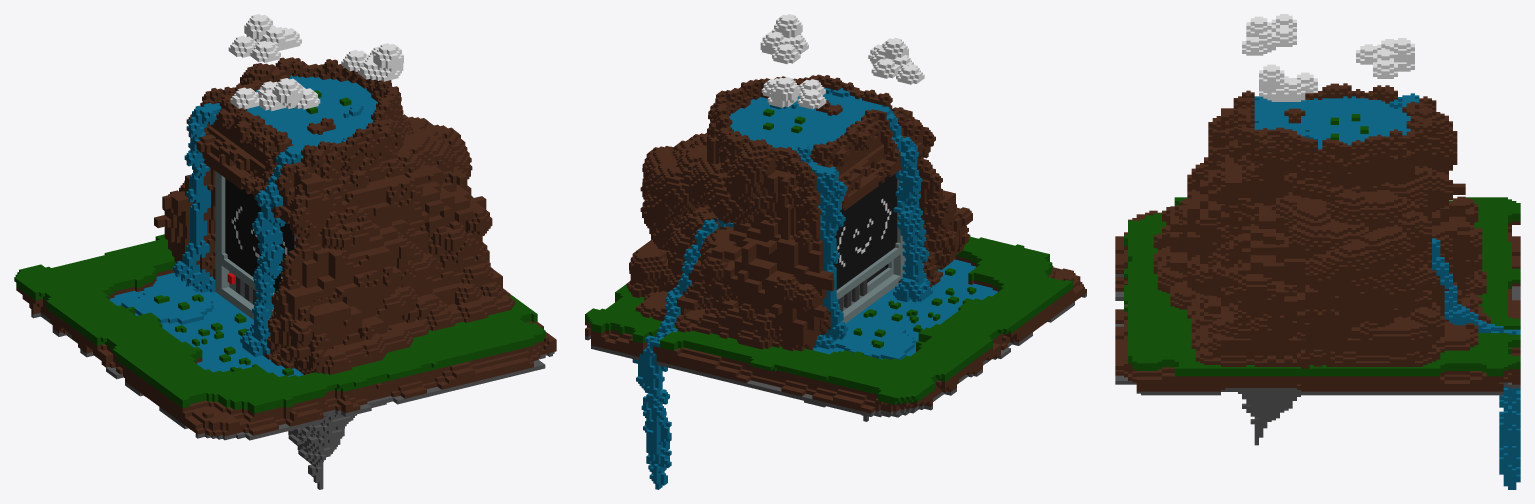
The model's file is CV_Center_D.glb.
The picture shows the model from 3 angles, left to right: view 1: azimuth 30°, elevation 25°; view 2: azimuth 150°, elevation 25°; view 3: azimuth 270°, elevation 25°; orthographic projection. The views are drawn at different scales.
Parts seen in each view (by area): view 1: Untitled; view 2: Untitled; view 3: Untitled.
Boxes of the visible parts, left/top/right/bottom form: Untitled: left=14, top=14, right=556, bottom=489; Untitled: left=585, top=14, right=1086, bottom=489; Untitled: left=1115, top=14, right=1520, bottom=489.
Bounding box in the file's own units: 9.9 × 10.8 × 9.6.
Materials: 1 (1 with a texture image).
